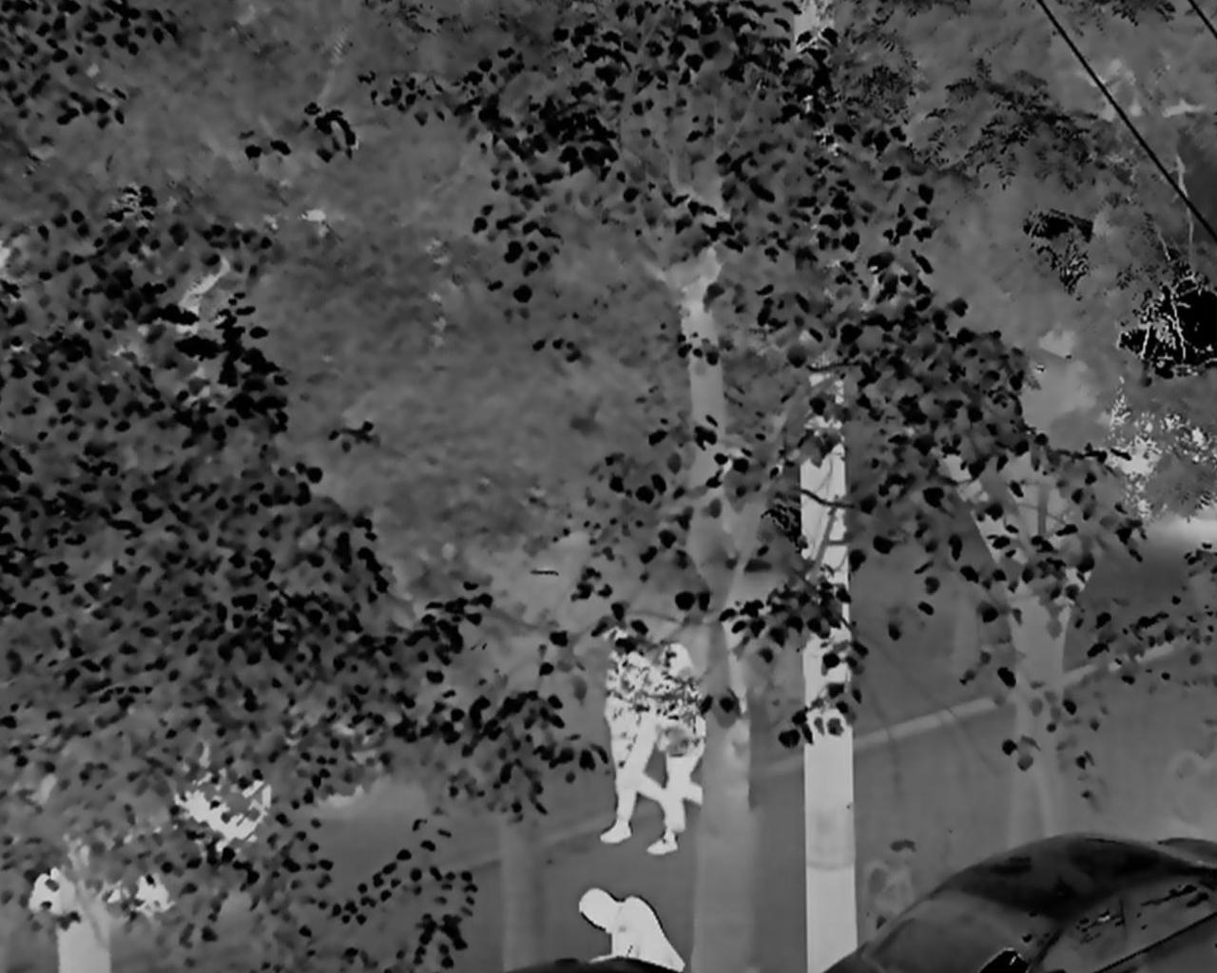person: (595, 623, 663, 849), (653, 644, 710, 858), (575, 889, 684, 973)
